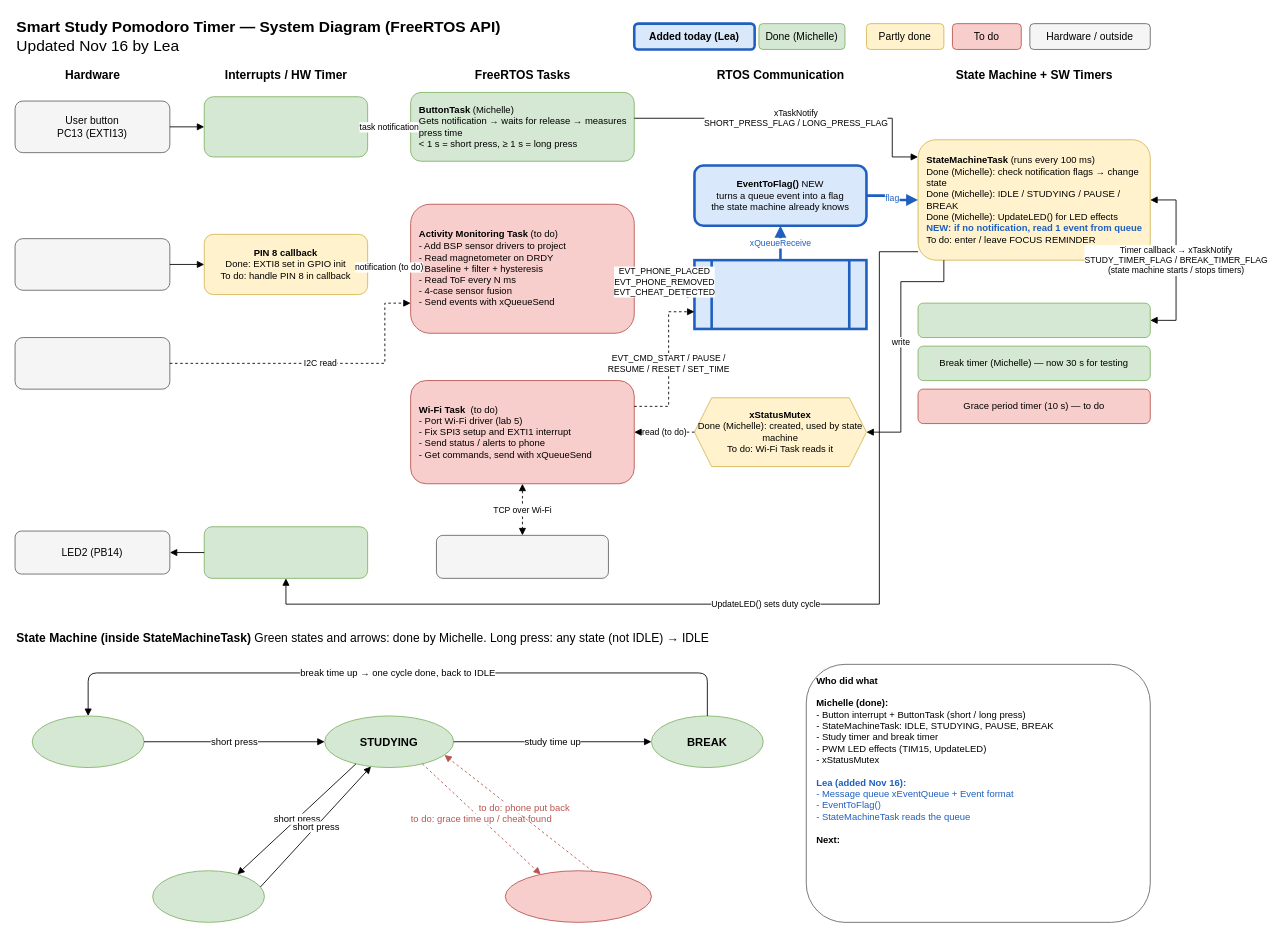
The diagram is 1282 pixels wide and 937 high, and some of its shapes have lost their labels. Here are the shapes that lost their labels. From the top down, the centre of each, then its label:
At point (285, 126): "HAL_GPIO_EXTI_Callback PIN 13 → xTaskNotifyFromISR (Michelle)".
At point (92, 264): "Magnetometer LIS3MDL DRDY → PC8 (EXTI8)".
At point (780, 294): "xEventQueue NEW Message Queue (10 events) Event = { type, value1, value2 }".
At point (1033, 320): "Study timer (Michelle) — now 30 s for testing".
At point (92, 363): "ToF VL53L0X I2C2 (read every N ms)".
At point (285, 552): "TIM15 CH1 PWM (Michelle) PSC=0, ARR=65535 about 1.2 kHz".
At point (522, 556): "Phone TCP server app".
At point (87, 741): "IDLE".
At point (208, 896): "PAUSE".
At point (577, 896): "FOCUS REMINDER".
